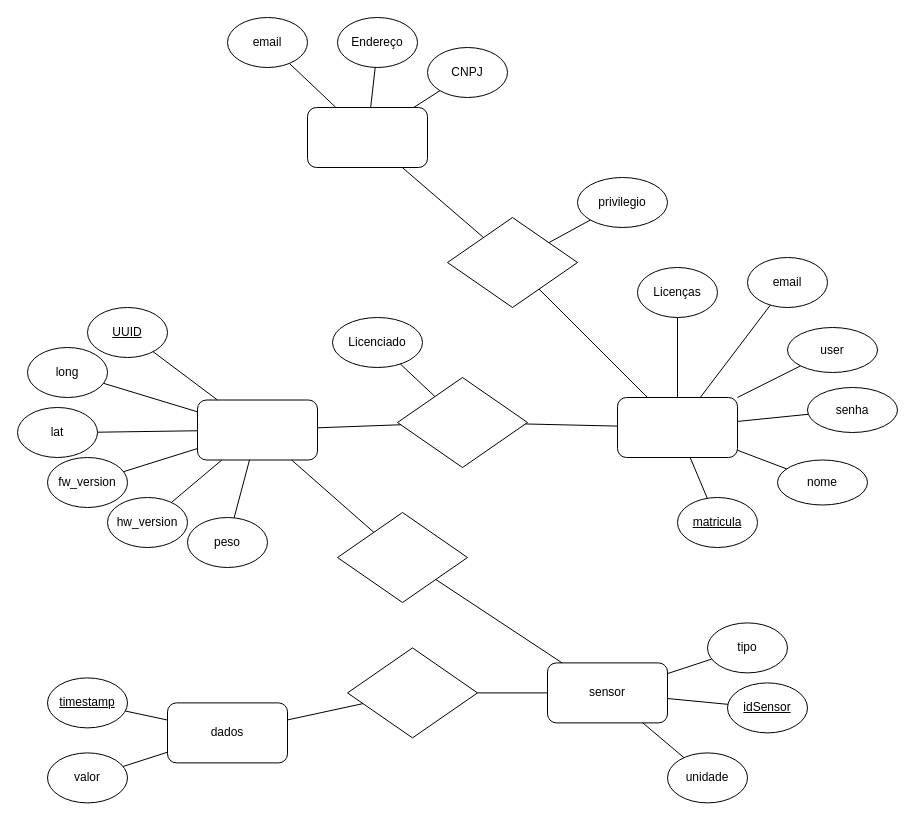
Some shapes in this 915 by 821 pixel diagram are drawn without their labels. The box of each missing label's shape, as (x1, y1, x2, y2) in pixels:
cooperativa: (306, 106, 428, 168)
dados_sensor: (346, 647, 478, 738)
dispositivo_usuario: (396, 376, 528, 468)
dispositivos: (196, 399, 318, 460)
pertence: (446, 216, 578, 308)
sensor_dispositivo: (336, 512, 468, 602)
Usuários: (616, 396, 738, 458)
